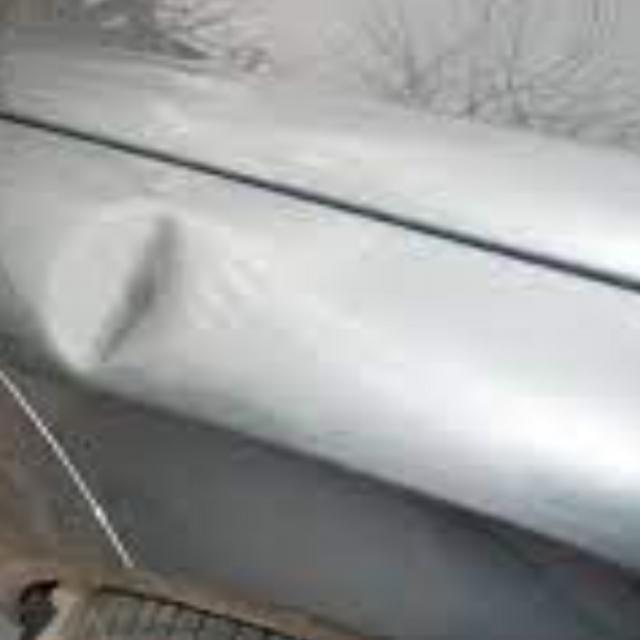dents: (38, 181, 284, 376)
